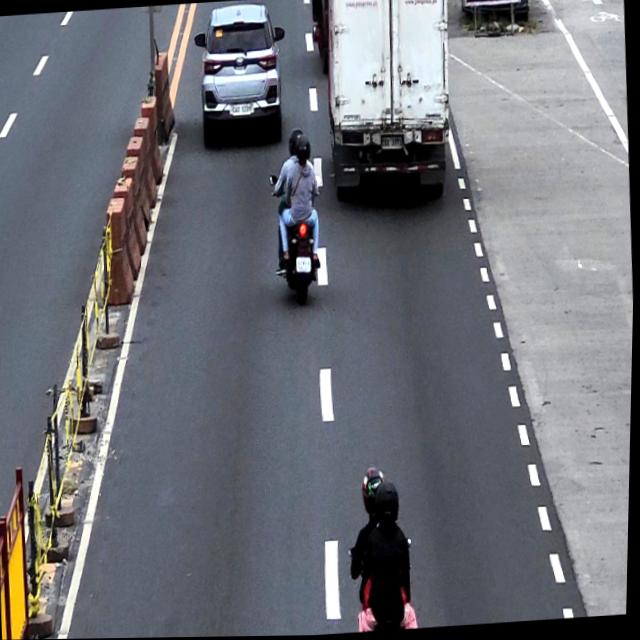Car: (192, 2, 292, 151)
License-Plate: (381, 135, 404, 153), (231, 103, 253, 117), (297, 257, 312, 274)
Motorcycle: (269, 170, 329, 309)
Truck: (321, 0, 460, 213)
